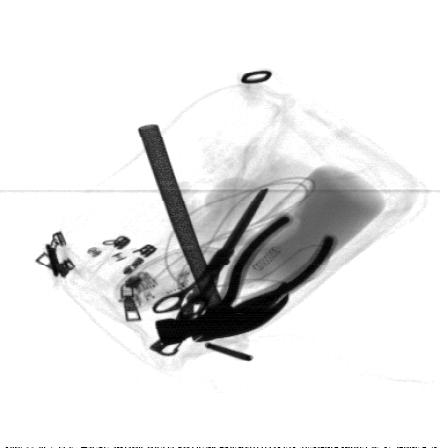Hammer: (135, 122, 292, 349)
Knife: (144, 243, 226, 359)
Pliers: (188, 211, 337, 345)
Scissors: (150, 188, 271, 321)
